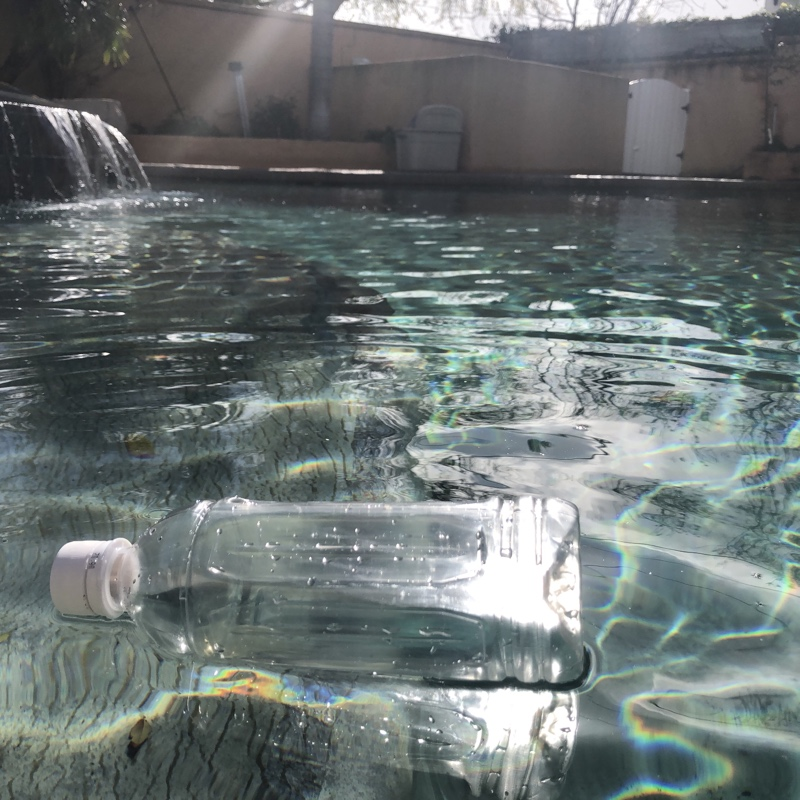Plastic Bottle: (44, 496, 596, 697)
